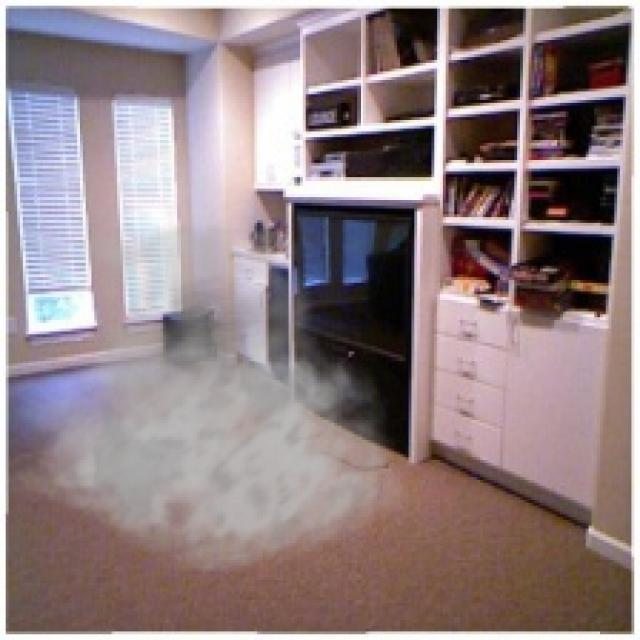smoke: (9, 189, 408, 574)
